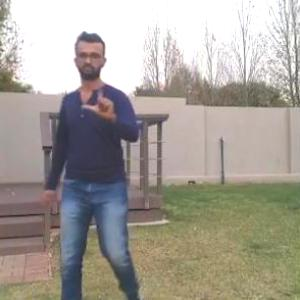land_hand: (80, 78, 122, 121)
